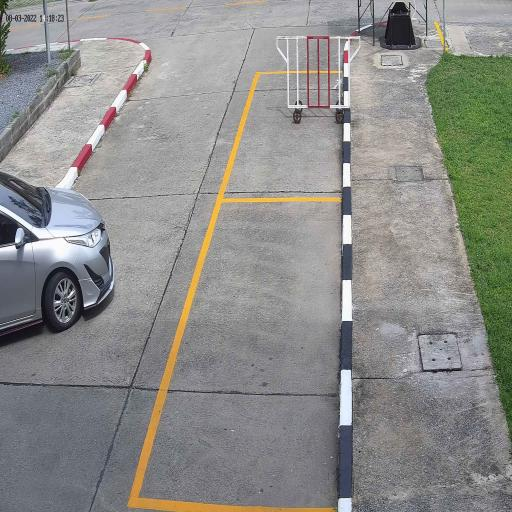car: (0, 168, 115, 338)
